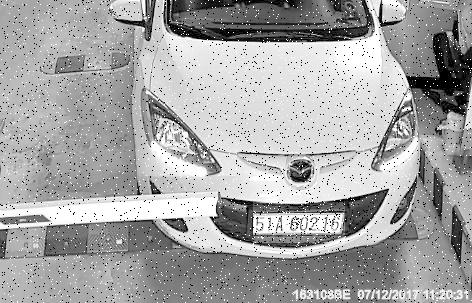License-plate: (255, 203, 348, 244)
